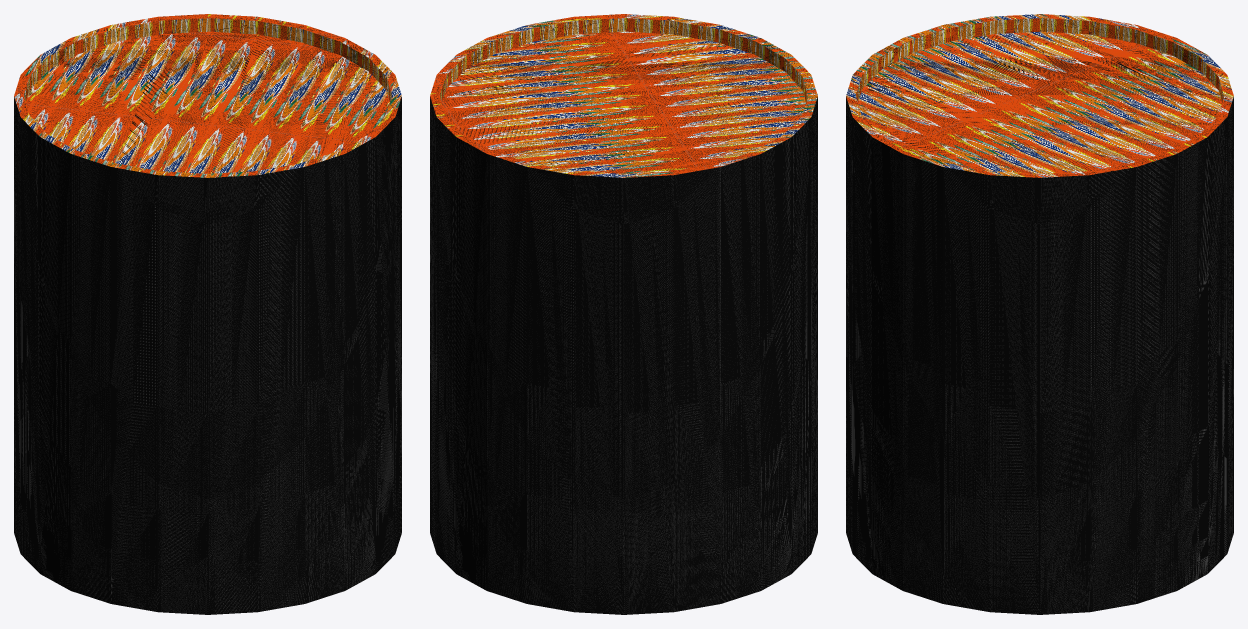
3 views of the same model, side by side, from view 1: azimuth 30°, elevation 25°; view 2: azimuth 150°, elevation 25°; view 3: azimuth 270°, elevation 25° (orthographic).
Parts seen in each view (by area): view 1: mesh1_mesh1-geometry; view 2: mesh1_mesh1-geometry; view 3: mesh1_mesh1-geometry.
Part boxes in pixels (bbox=[...]): mesh1_mesh1-geometry: bbox=[14, 14, 401, 614]; mesh1_mesh1-geometry: bbox=[430, 14, 817, 614]; mesh1_mesh1-geometry: bbox=[846, 14, 1233, 614].
Size of the model in its own units: 0.5311 by 0.6602 by 0.5311.
